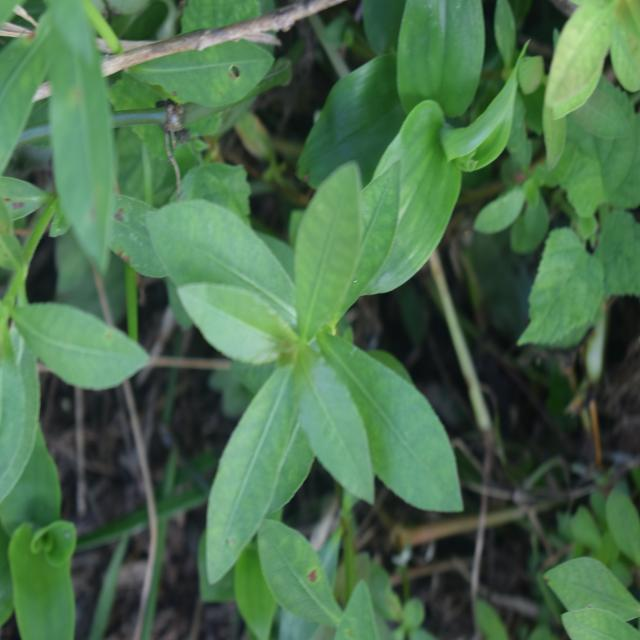Alligatorweed: (154, 178, 462, 550)
